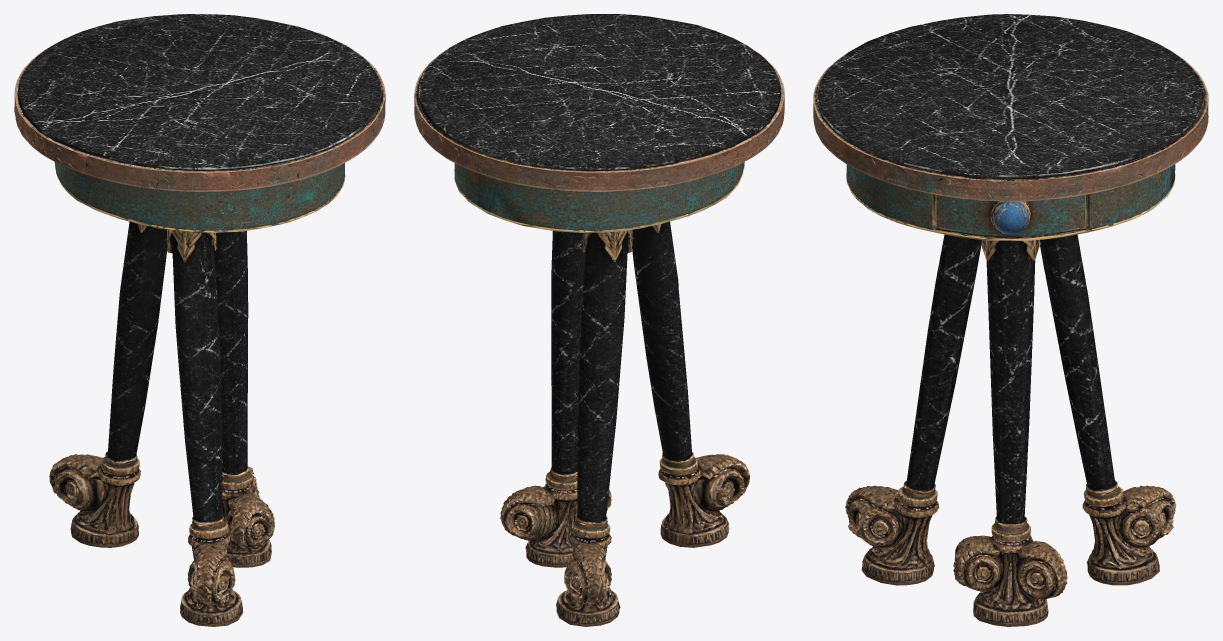
File: HY-01_bedside_table_game.glb
3 renders of one model, left to right at view 1: azimuth 30°, elevation 25°; view 2: azimuth 150°, elevation 25°; view 3: azimuth 270°, elevation 25°, orthographic. The views are drawn at different scales.
Visible parts, largest first — view 1: HY-01_bedside_table; view 2: HY-01_bedside_table; view 3: HY-01_bedside_table.
Boxes of the visible parts, x1,y1,x2,y2 form: HY-01_bedside_table: (14,14,385,626); HY-01_bedside_table: (414,14,784,626); HY-01_bedside_table: (813,14,1208,626).
Size of the model in its own units: 0.4421 by 0.6198 by 0.4455.
1 material, 1 textured.
